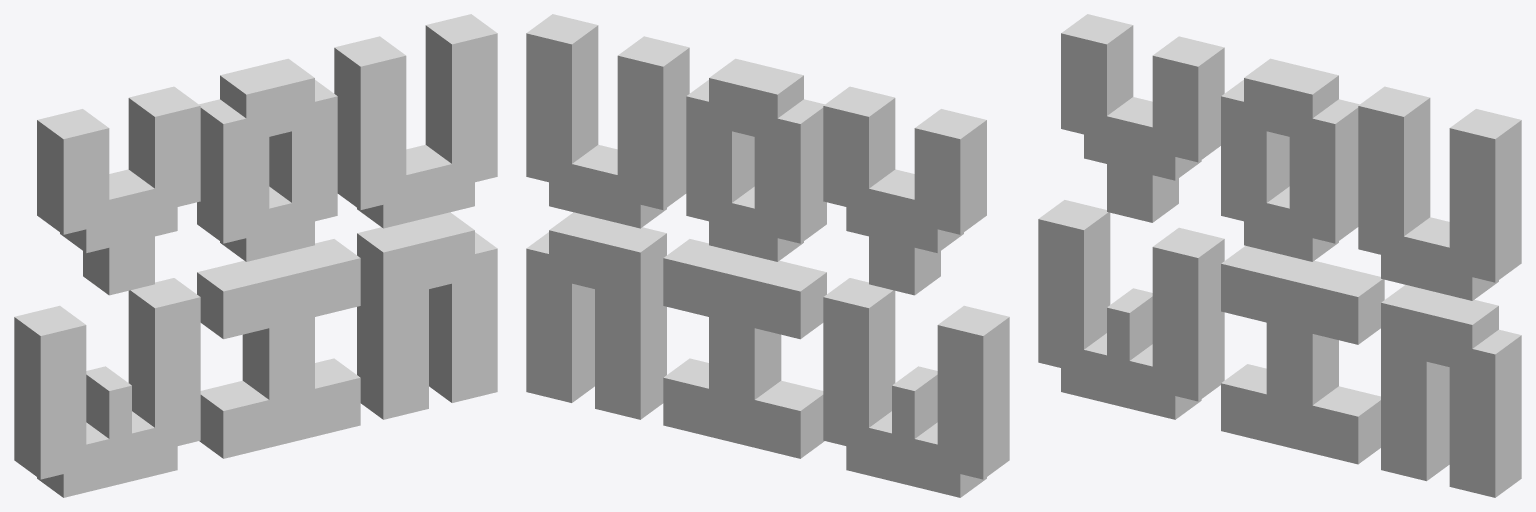
File: YouWin.obj
3 views of the same model, side by side, from view 1: azimuth 30°, elevation 25°; view 2: azimuth 150°, elevation 25°; view 3: azimuth 330°, elevation 25° (orthographic).
Bounding box in the file's own units: 2 × 1.5 × 0.2.
Materials: 1 (1 with a texture image).
